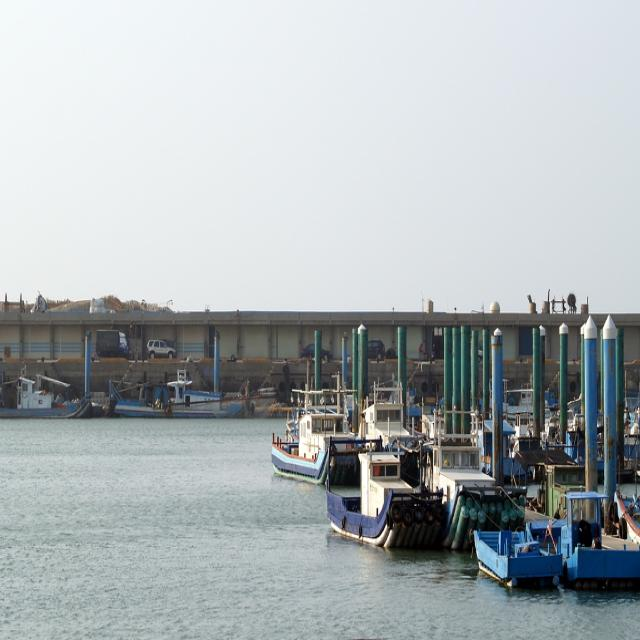Boat: (270, 361, 640, 589), (109, 365, 248, 419), (0, 362, 91, 419)
